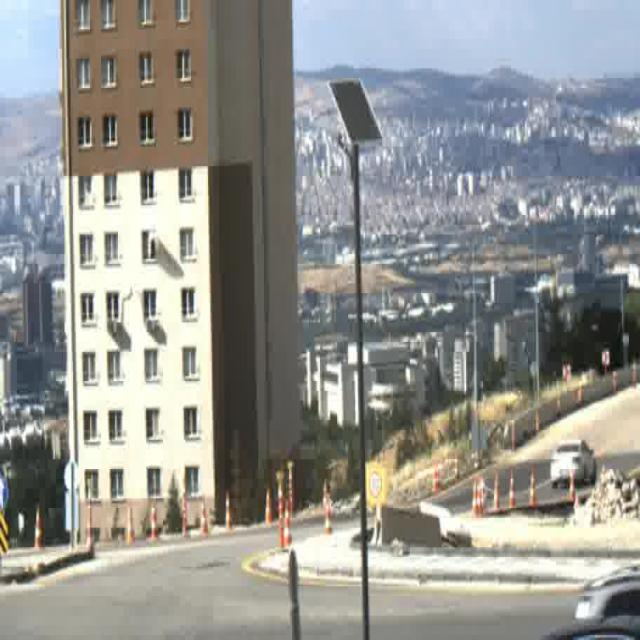Car: (572, 564, 640, 640), (550, 442, 597, 489)
